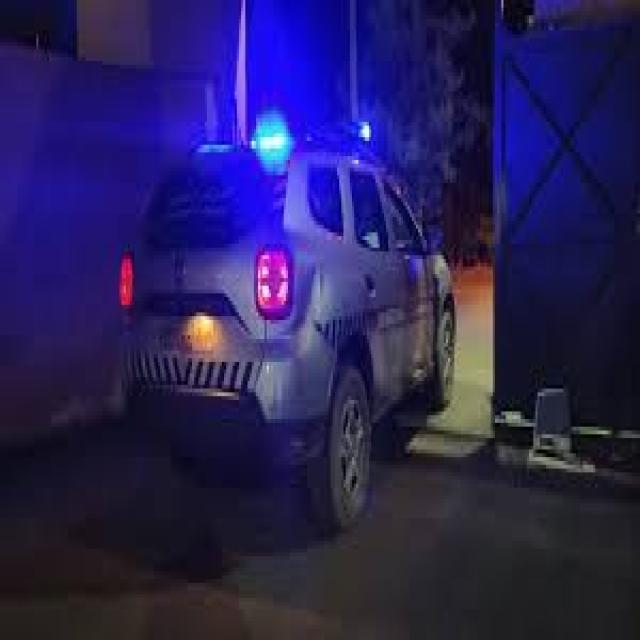gendarme car: (108, 108, 462, 540)
